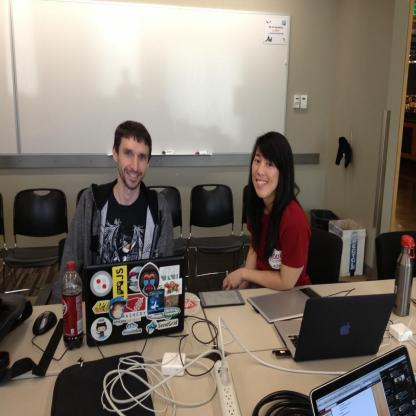board: (84, 256, 184, 346), (275, 294, 397, 361), (311, 346, 416, 416), (248, 287, 322, 324), (63, 261, 84, 345), (394, 228, 414, 316)
